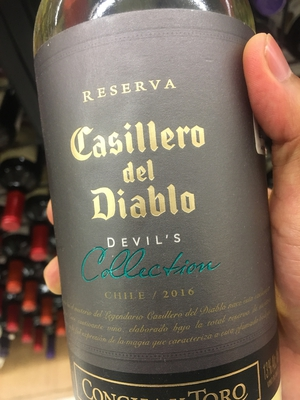casillero del diablo devils collection verde: (29, 4, 294, 400)
